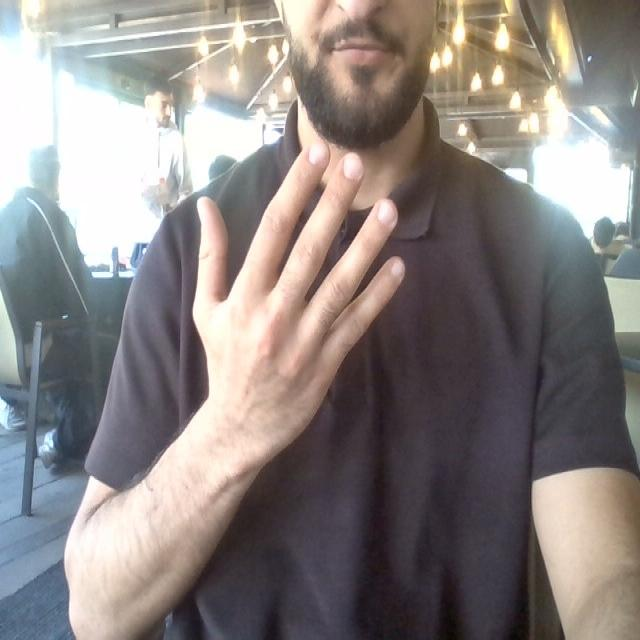Hand: (193, 143, 403, 459)
